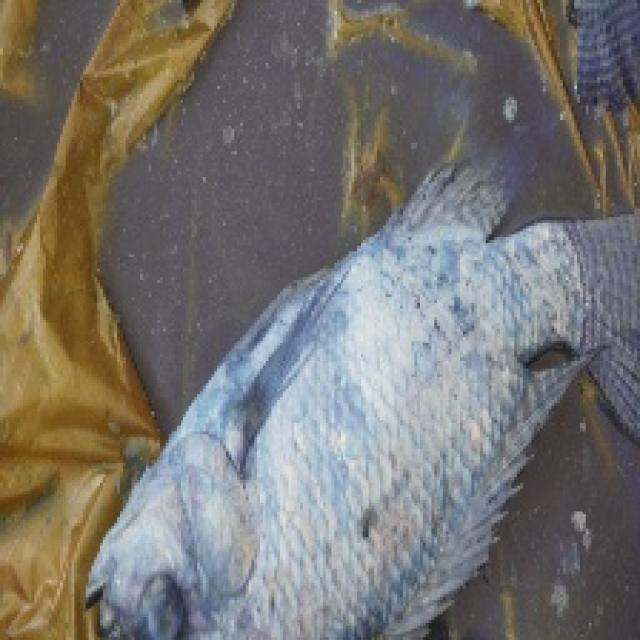Non-Fresh: (121, 214, 612, 640)
